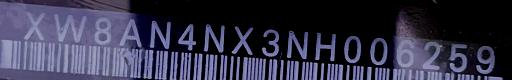letter: (52, 12, 88, 43), (147, 17, 173, 51), (229, 23, 255, 57), (312, 30, 338, 63), (118, 16, 144, 48), (200, 22, 226, 54), (286, 27, 310, 61), (419, 38, 443, 71), (474, 43, 498, 74), (22, 10, 46, 41), (367, 34, 389, 65), (394, 36, 416, 67), (176, 21, 198, 51), (261, 26, 281, 58), (342, 32, 362, 64), (448, 40, 468, 71), (92, 16, 112, 44)
